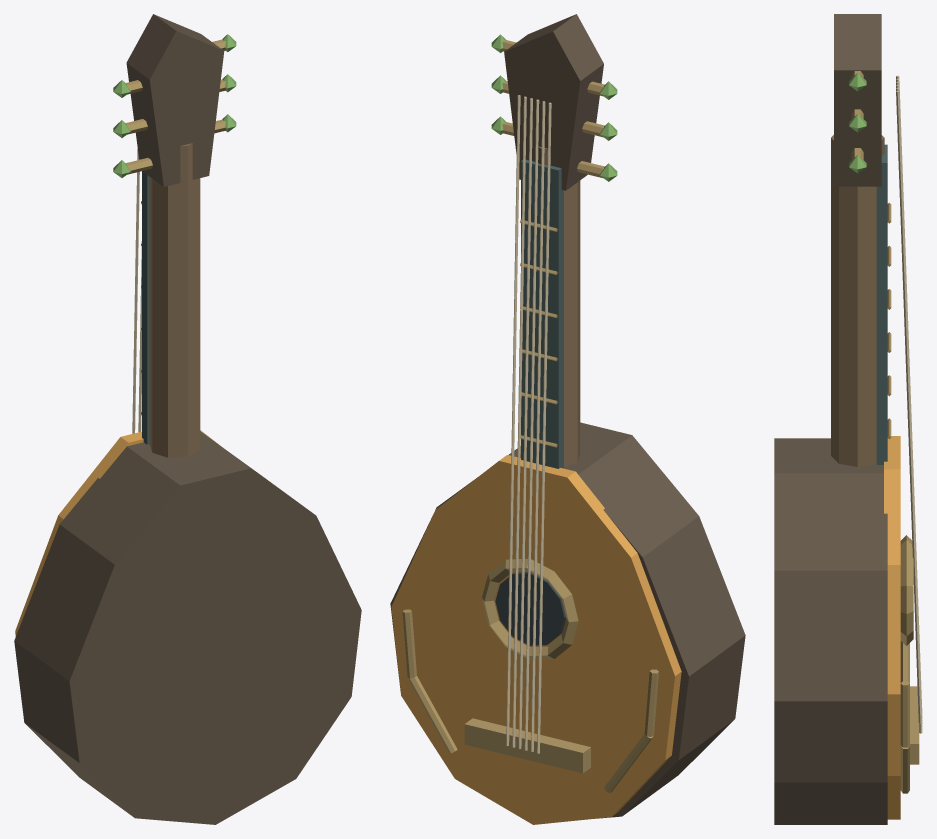
The model's file is Profession_ResonanceLute.fbx.
3 views of the same model, side by side, from view 1: azimuth 30°, elevation 25°; view 2: azimuth 150°, elevation 25°; view 3: azimuth 270°, elevation 25° (orthographic). The views are drawn at different scales.
Parts seen in each view (by area): view 1: Profession_ResonanceLute; view 2: Profession_ResonanceLute; view 3: Profession_ResonanceLute.
Boxes of the visible parts, x1,y1,x2,y2 form: Profession_ResonanceLute: (14,14,361,824); Profession_ResonanceLute: (390,14,745,824); Profession_ResonanceLute: (774,14,922,824).
Bounding box in the file's own units: 0.58 × 1.47 × 0.2488.
